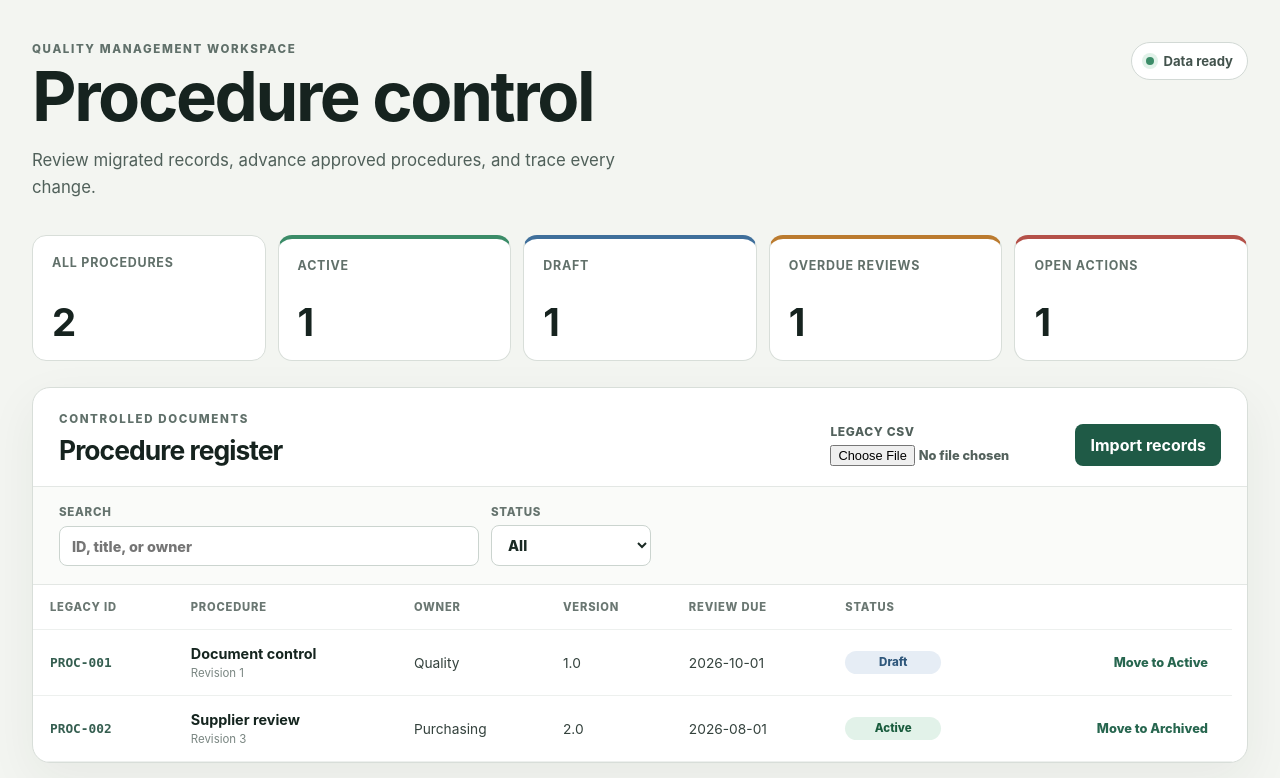
procedure register › surfaces and focuses a workflow conflict returned by the API
This screenshot has width=1280, height=778.
Check: the text "Document control" is shown, box [191, 645, 317, 662]
Step 1. Click the button with aria-label "Move PROC-001 to Active" → [1161, 663], box [1107, 648, 1215, 677]
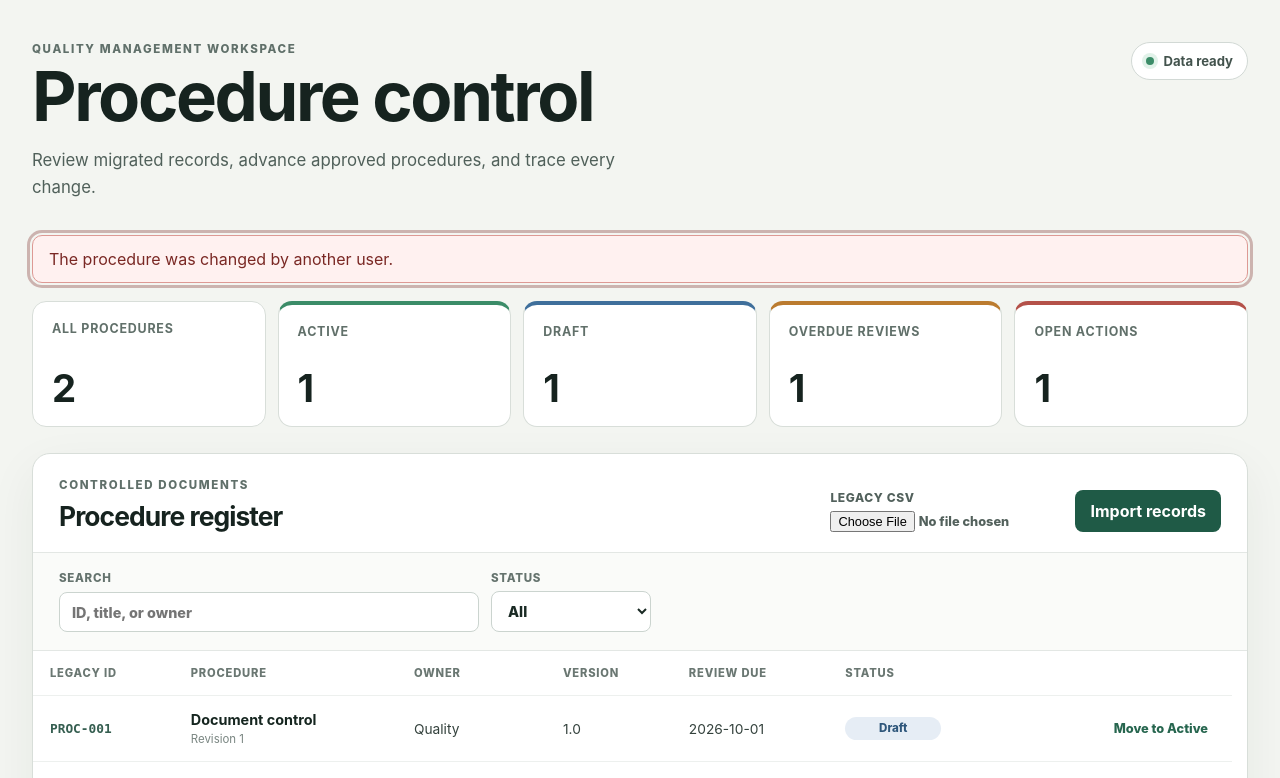
Check: the message reads "The procedure was changed by another user.", box [49, 249, 393, 269]
